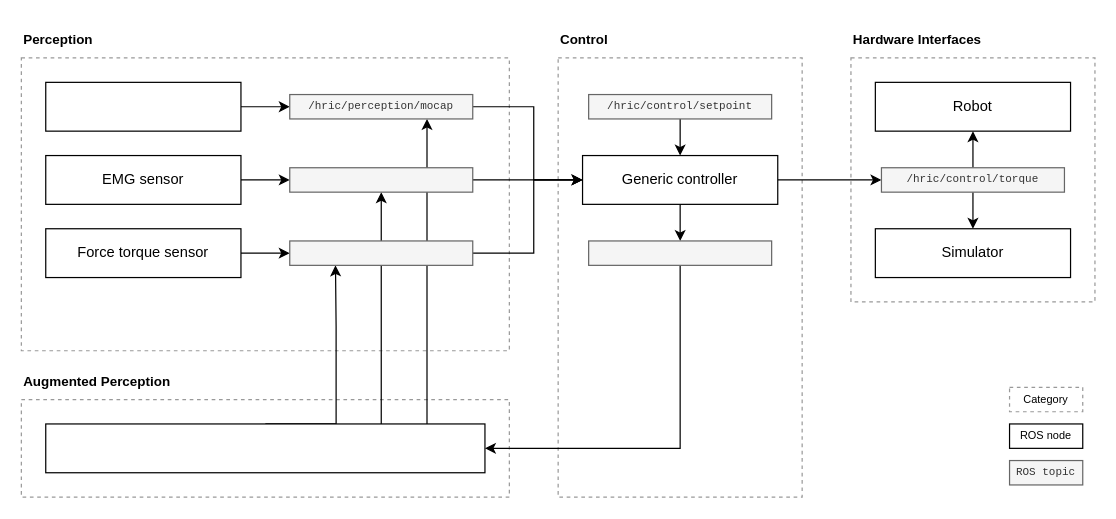
This 1116x519 diagram has some shape labels left out. The shapes that lost their labels are listed below. From the top down, each one's centre as x and y in pixels, then its label:
At (x=143, y=106): "Motion capture system".
At (x=381, y=179): "/hric/perception/emg".
At (x=381, y=252): "/hric/perception/ftsens".
At (x=679, y=252): "/hric/control/robot_state".
At (x=265, y=448): "Human behaviour model".
